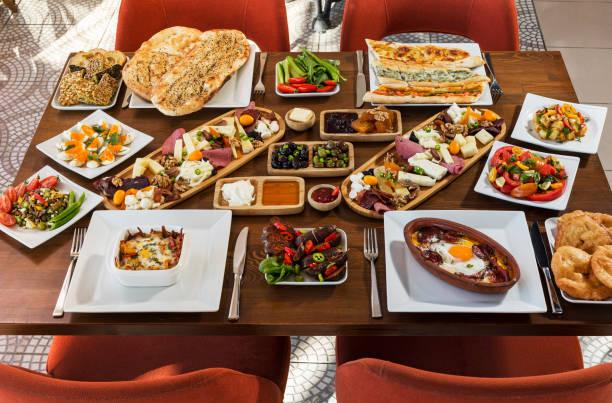Braised Crucian Carp: (343, 106, 502, 216), (118, 101, 277, 211), (384, 209, 548, 313), (64, 209, 229, 312), (126, 39, 252, 109), (2, 164, 105, 247), (35, 108, 152, 179), (365, 41, 490, 107), (475, 139, 579, 211), (510, 93, 607, 155), (543, 217, 610, 305), (257, 227, 347, 284), (49, 52, 127, 110), (215, 176, 303, 215), (276, 47, 344, 96)
